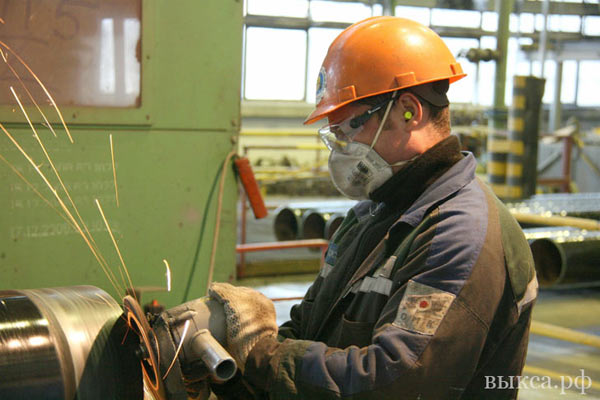person: (144, 16, 540, 400)
